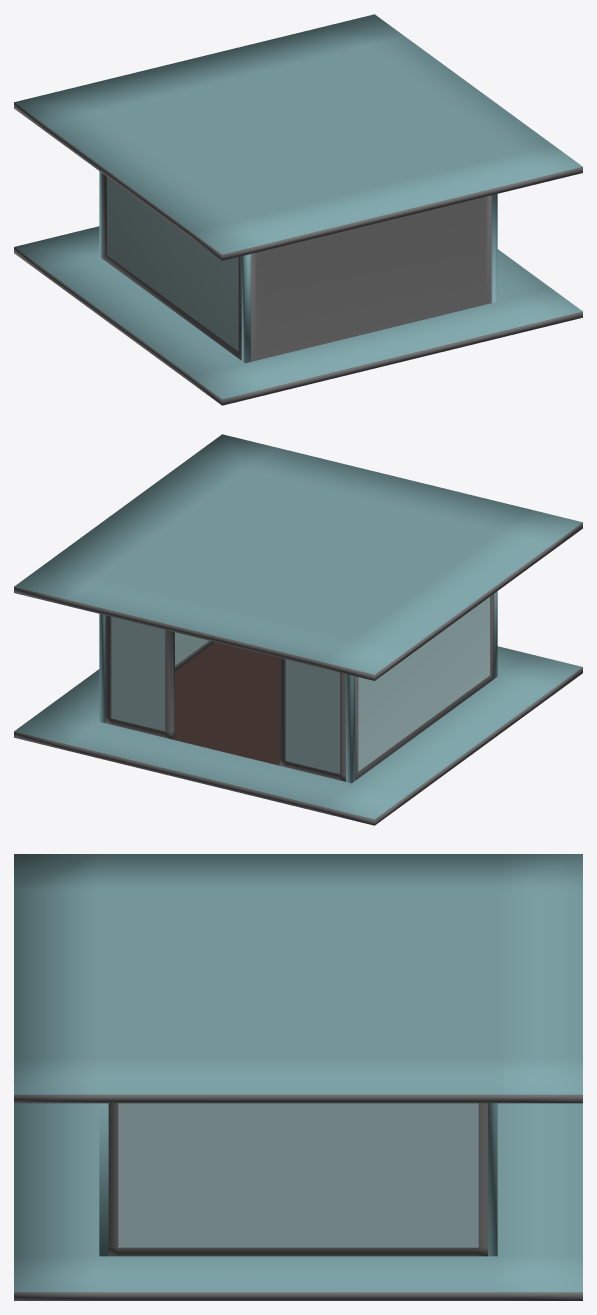
Rendered from house.fbx.
3 views of the same model, one above another, from view 1: azimuth 30°, elevation 25°; view 2: azimuth 150°, elevation 25°; view 3: azimuth 270°, elevation 25° (orthographic). The views are drawn at different scales.
Visible parts, largest first — view 1: Roof, Floor, West_Wall, North_Wall, North_West_Frame, South_West_Frame; view 2: Roof, Floor, East_Wall, North_Wall, North_East_Frame, South_Wall, South_East_Frame; view 3: Roof, South_Wall, Floor, South_West_Frame, South_East_Frame.
Part boxes in pixels (x1=…): Roof: x1=14, y1=14, x2=582, y2=260; Floor: x1=14, y1=226, x2=582, y2=405; West_Wall: x1=251, y1=195, x2=491, y2=361; North_Wall: x1=102, y1=174, x2=241, y2=360; North_West_Frame: x1=241, y1=254, x2=250, y2=363; South_West_Frame: x1=491, y1=194, x2=497, y2=302; Roof: x1=14, y1=434, x2=582, y2=680; Floor: x1=14, y1=642, x2=582, y2=825; East_Wall: x1=105, y1=615, x2=345, y2=781; North_Wall: x1=355, y1=594, x2=494, y2=780; North_East_Frame: x1=346, y1=674, x2=355, y2=783; South_Wall: x1=175, y1=632, x2=215, y2=671; South_East_Frame: x1=99, y1=614, x2=105, y2=722; Roof: x1=14, y1=854, x2=582, y2=1103; South_Wall: x1=108, y1=1103, x2=487, y2=1256; Floor: x1=14, y1=1103, x2=582, y2=1300; South_West_Frame: x1=99, y1=1103, x2=108, y2=1256; South_East_Frame: x1=488, y1=1103, x2=497, y2=1256.
Size of the model in its own units: 30 by 12 by 30.
